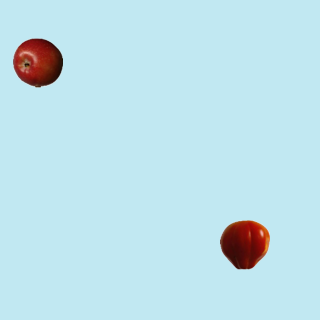Apple Braeburn: (12, 37, 62, 87)
Tomato 1: (219, 219, 269, 269)
